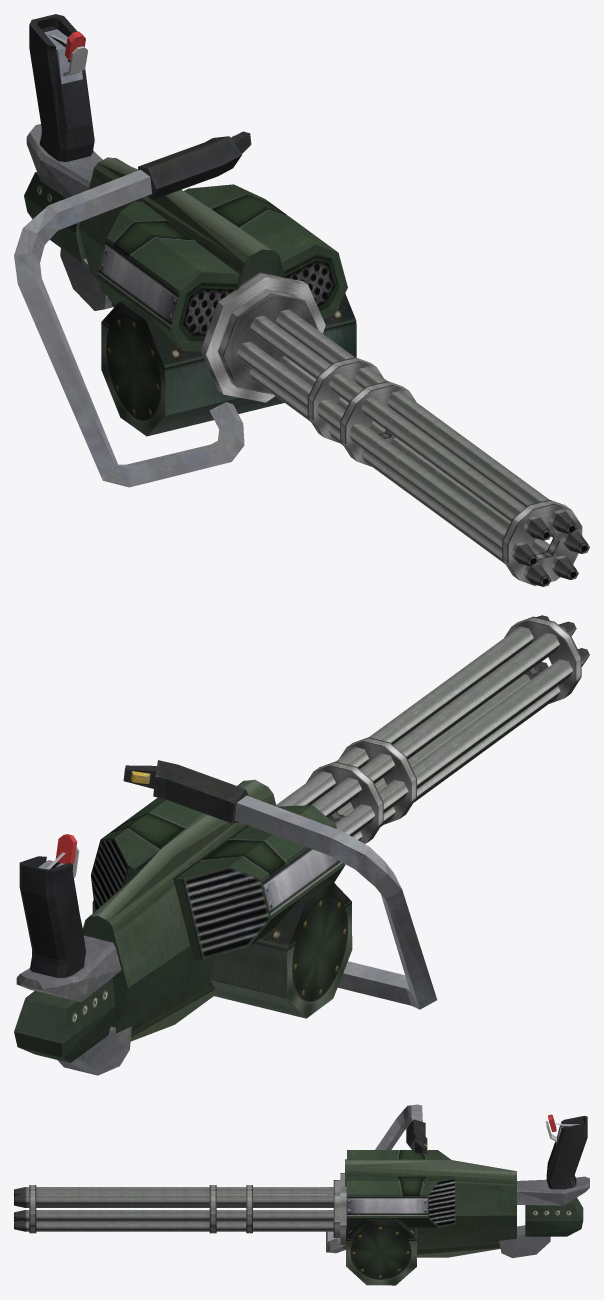
Rendered from tank-minigun.glb.
The picture shows the model from 3 angles, top to bottom: view 1: azimuth 30°, elevation 25°; view 2: azimuth 150°, elevation 25°; view 3: azimuth 270°, elevation 25°; orthographic projection. The views are drawn at different scales.
Visible parts, largest first — view 1: geometry_0, geometry_2, geometry_1; view 2: geometry_0, geometry_2, geometry_1; view 3: geometry_0, geometry_2, geometry_1.
Part boxes in pixels (x1,y1,x2,y2): geometry_0: (14, 31, 356, 487); geometry_2: (200, 272, 589, 586); geometry_1: (24, 14, 113, 310); geometry_0: (46, 760, 437, 1041); geometry_2: (276, 615, 589, 843); geometry_1: (14, 856, 131, 1075); geometry_0: (326, 1104, 572, 1285); geometry_2: (14, 1173, 347, 1245); geometry_1: (499, 1116, 589, 1257).
Bounding box in the file's own units: 1.94 × 1.76 × 6.02.
Materials: 2 (2 with a texture image).
